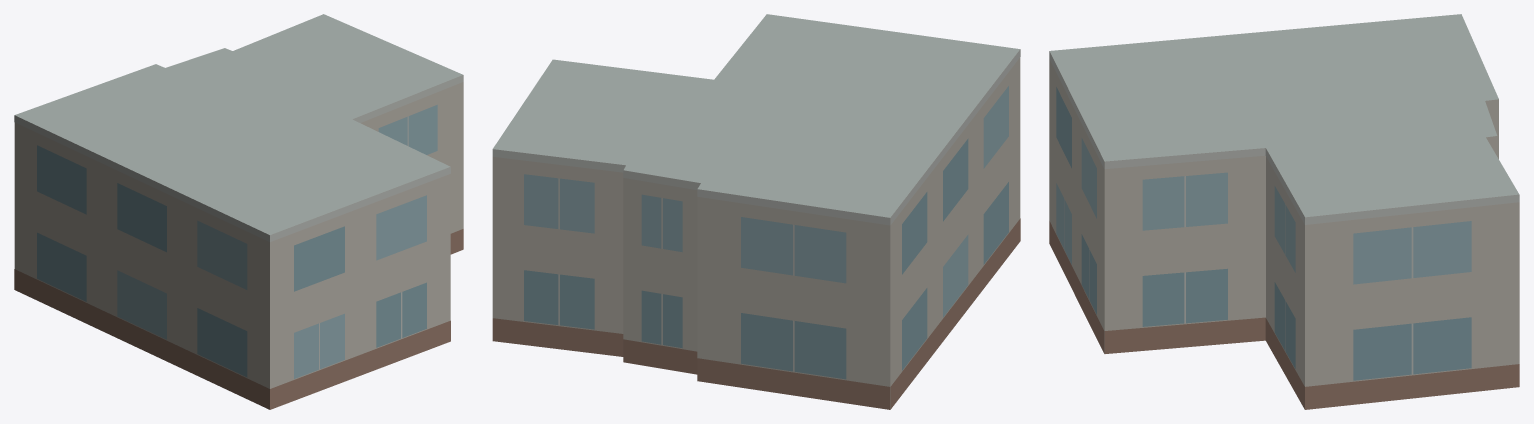
File: survey-upis-32671192.glb
3 views of the same model, side by side, from view 1: azimuth 30°, elevation 25°; view 2: azimuth 150°, elevation 25°; view 3: azimuth 270°, elevation 25° (orthographic). The views are drawn at different scales.
Visible parts, largest first — view 1: survey-upis-32671192.tmp; view 2: survey-upis-32671192.tmp; view 3: survey-upis-32671192.tmp.
Boxes of the visible parts, x1=… form: survey-upis-32671192.tmp: x1=14, y1=14, x2=463, y2=409; survey-upis-32671192.tmp: x1=492, y1=14, x2=1020, y2=409; survey-upis-32671192.tmp: x1=1049, y1=14, x2=1519, y2=409.
Bounding box in the file's own units: 13.83 × 6.1 × 13.51.
